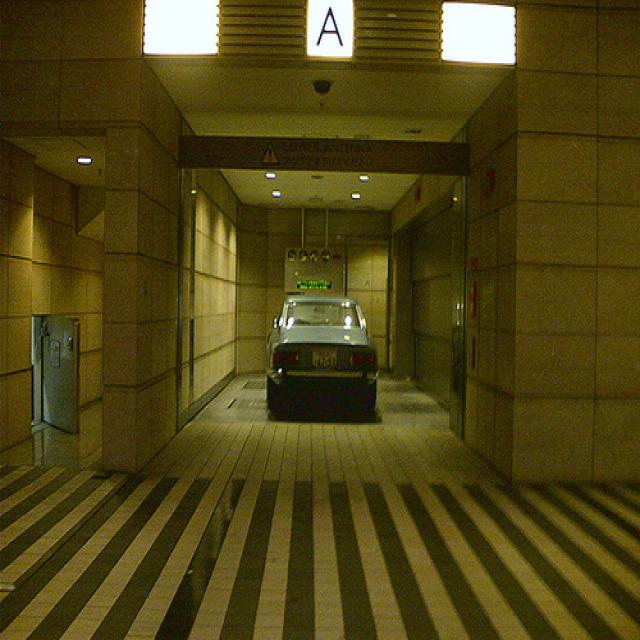Car: (263, 293, 382, 418)
